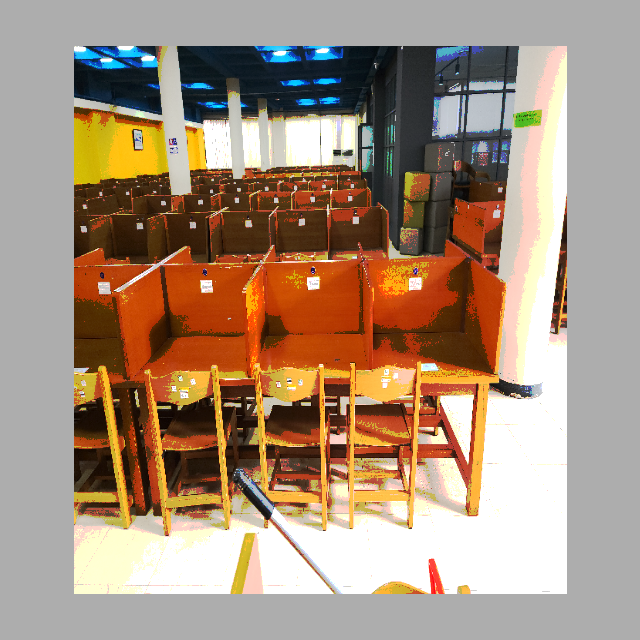empty: (376, 230, 498, 439), (123, 248, 249, 443), (253, 240, 371, 436)
